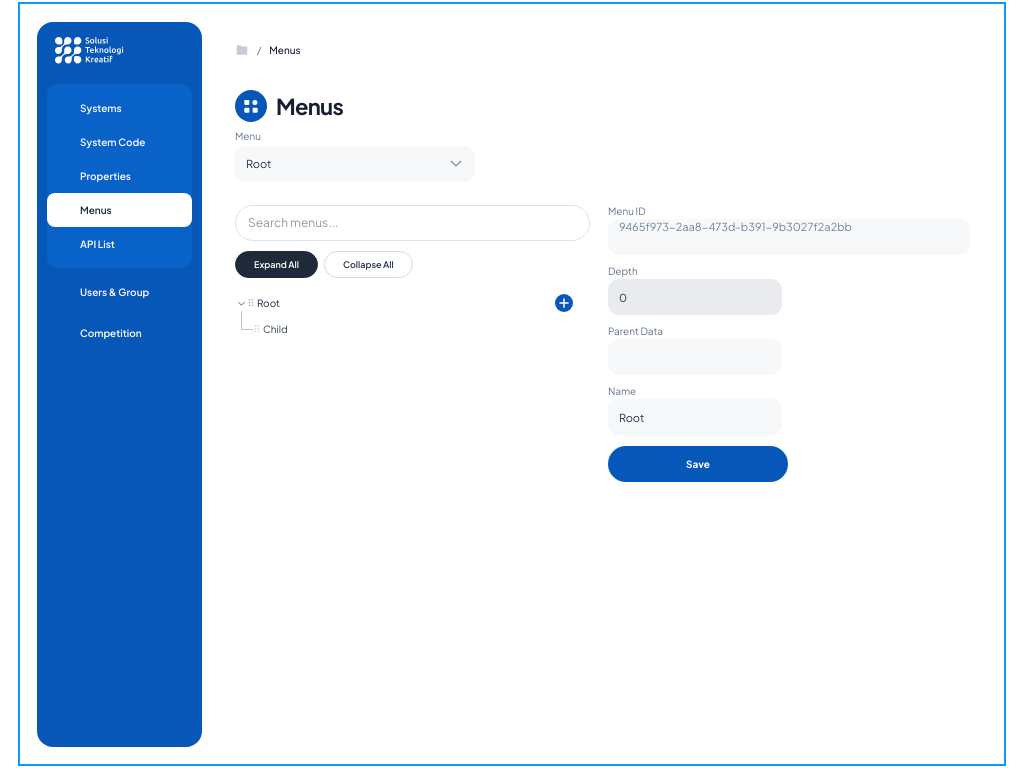
menu manager › creates a child menu and refreshes the tree
Expected: the button named "Ciutkan Root" is shown, [235, 295, 247, 311]
Step 1. Click the button named "Tambah submenu di bawah Root" → {"x": 564, "y": 303}, box [555, 294, 573, 312]
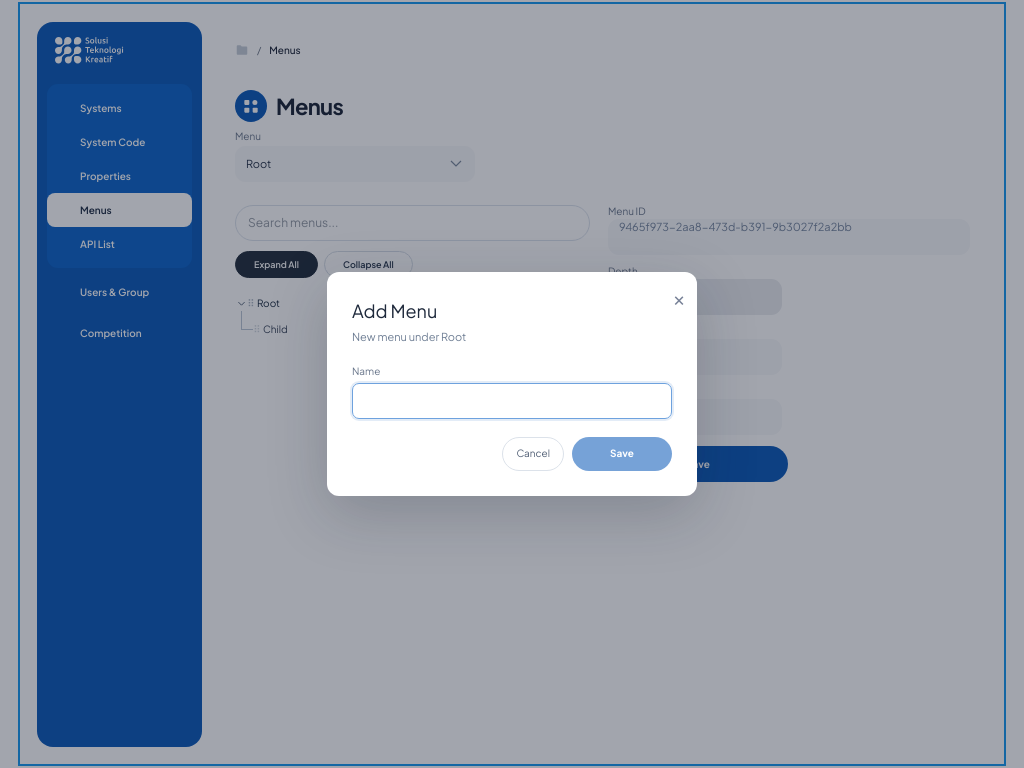
Step 2. Type "New child" into the field labelled "Name" → {"x": 512, "y": 401}, box [352, 383, 672, 419]
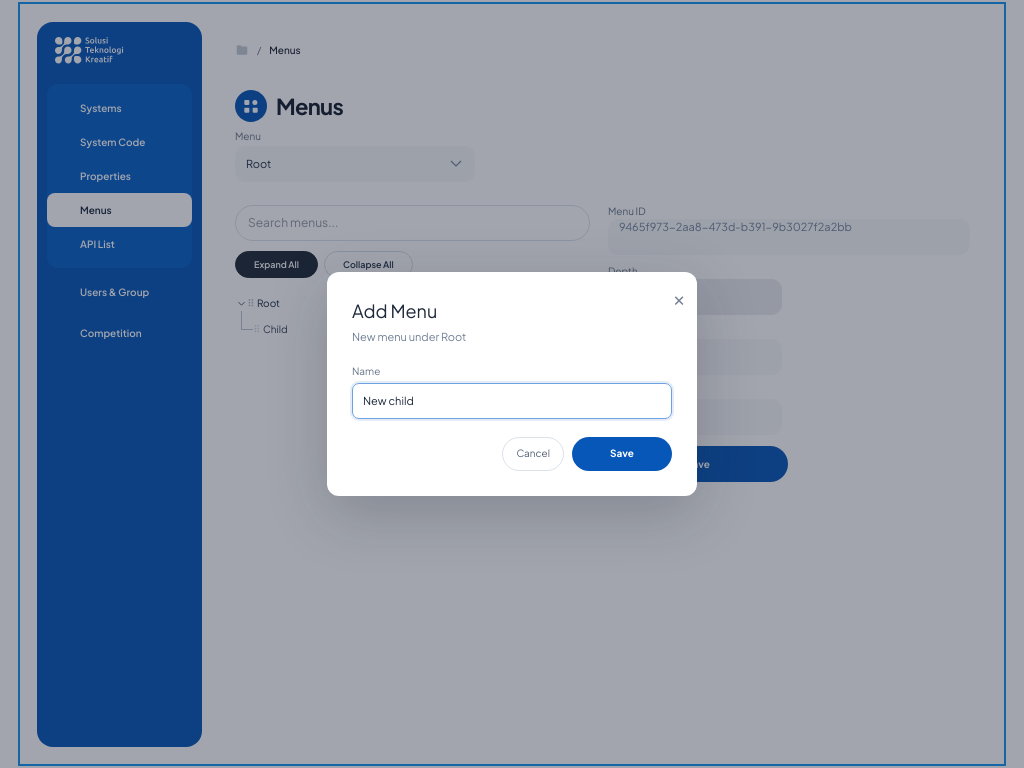
Step 3. Click the button "Save" → {"x": 622, "y": 454}, box [572, 437, 672, 471]
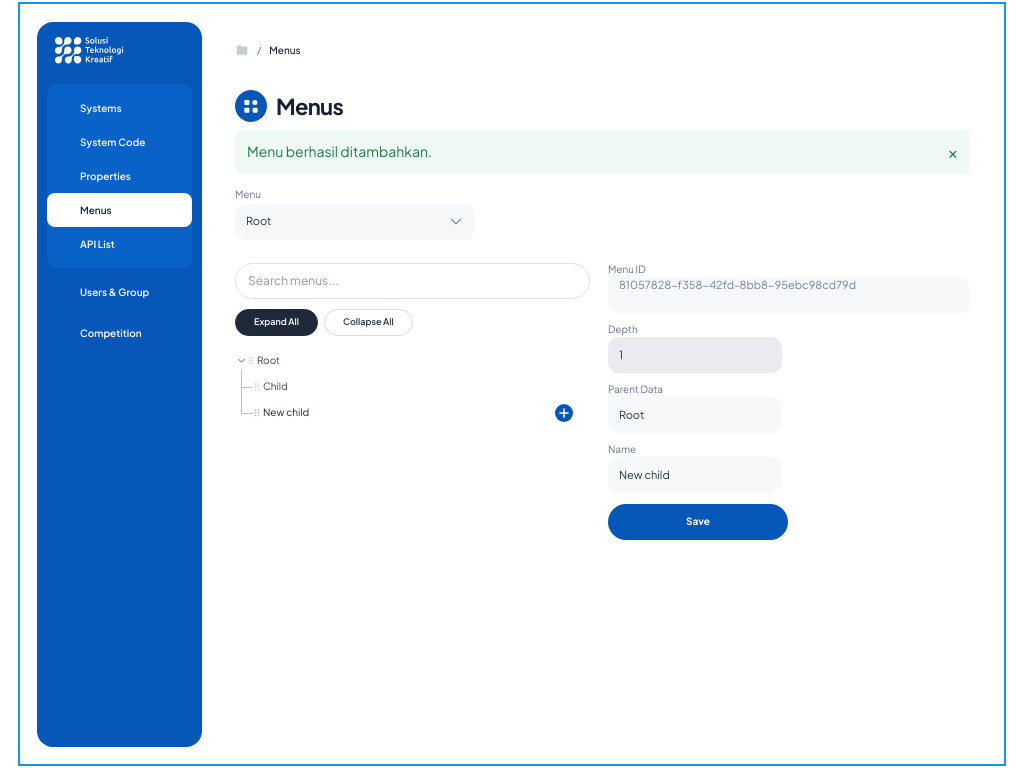
Now the text "New child" is shown, box [263, 405, 309, 420]
Now the message shows "Menu berhasil ditambahkan.", box [247, 142, 432, 160]
